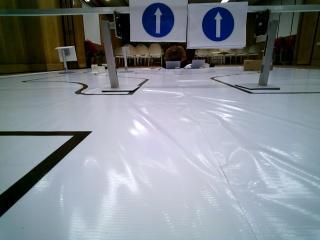straight: (191, 3, 245, 47), (128, 0, 186, 40)
